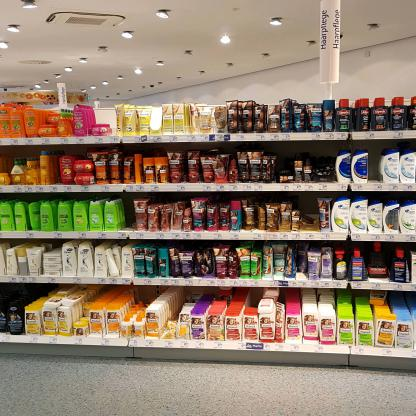Void: (276, 143, 290, 171), (124, 198, 135, 229), (370, 144, 379, 179), (315, 144, 331, 161), (304, 194, 316, 214), (72, 145, 89, 159)
